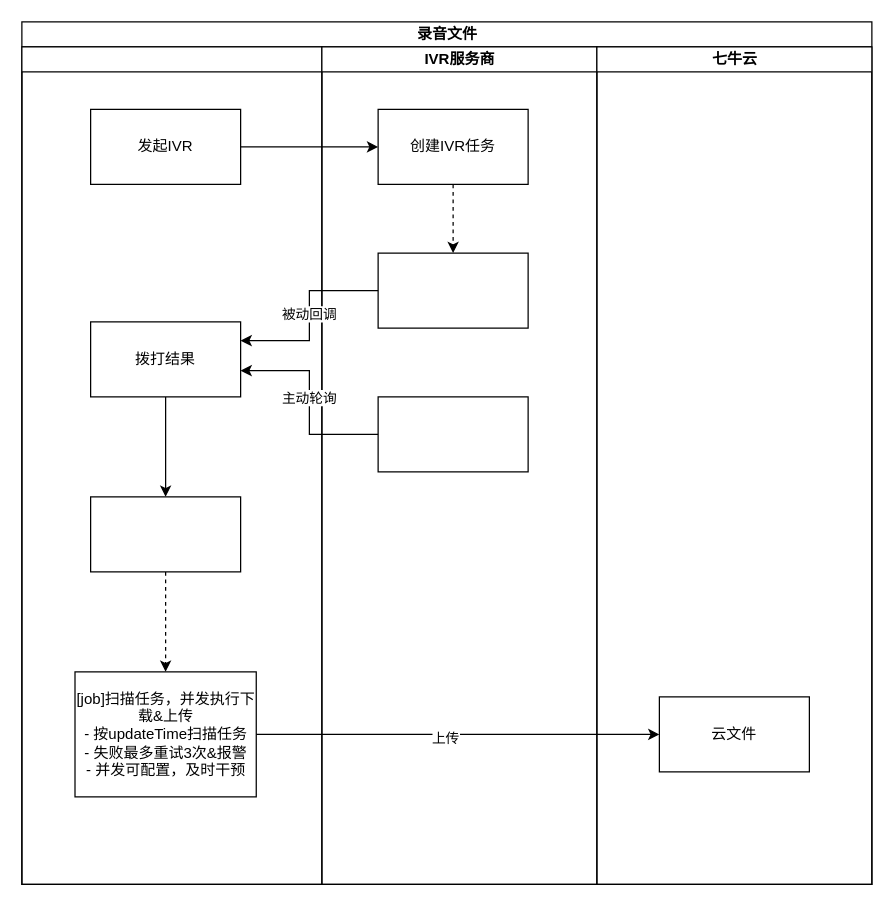
Image size: 894x906. Some labels were removed from this diagram. Each missing label, with the box of its shape:
notification: (21, 46, 322, 884)
拨号&通话: (377, 252, 528, 328)
结果查询: (377, 396, 528, 472)
解析录音地址&插入下载任务: (89, 496, 241, 572)
